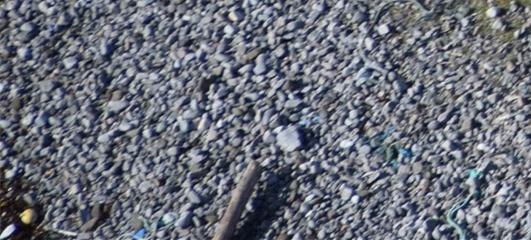straight_bar: (206, 156, 269, 240)
tube: (442, 196, 474, 239)
white_in_green: (4, 191, 54, 238), (458, 157, 494, 189), (387, 135, 423, 167)
